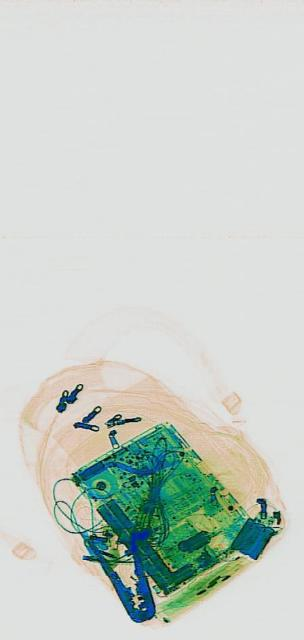Pliers: (88, 493, 160, 639)
